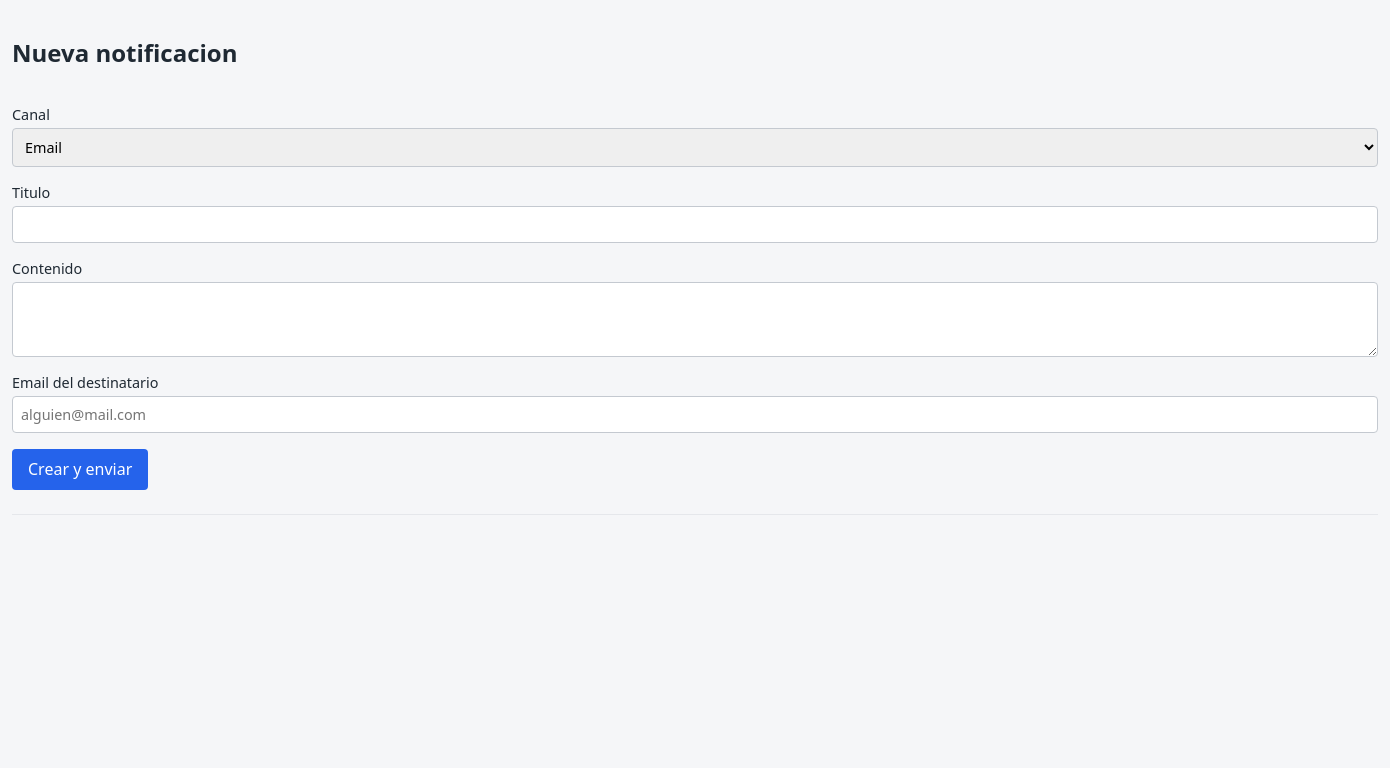
Scenario: NotificationForm › muestra el error que devuelve el backend
This screenshot has width=1390, height=768.
Type "Hola" into the field labelled "Titulo".
click(695, 224); type("Hola")  # box [12,206,1378,243]
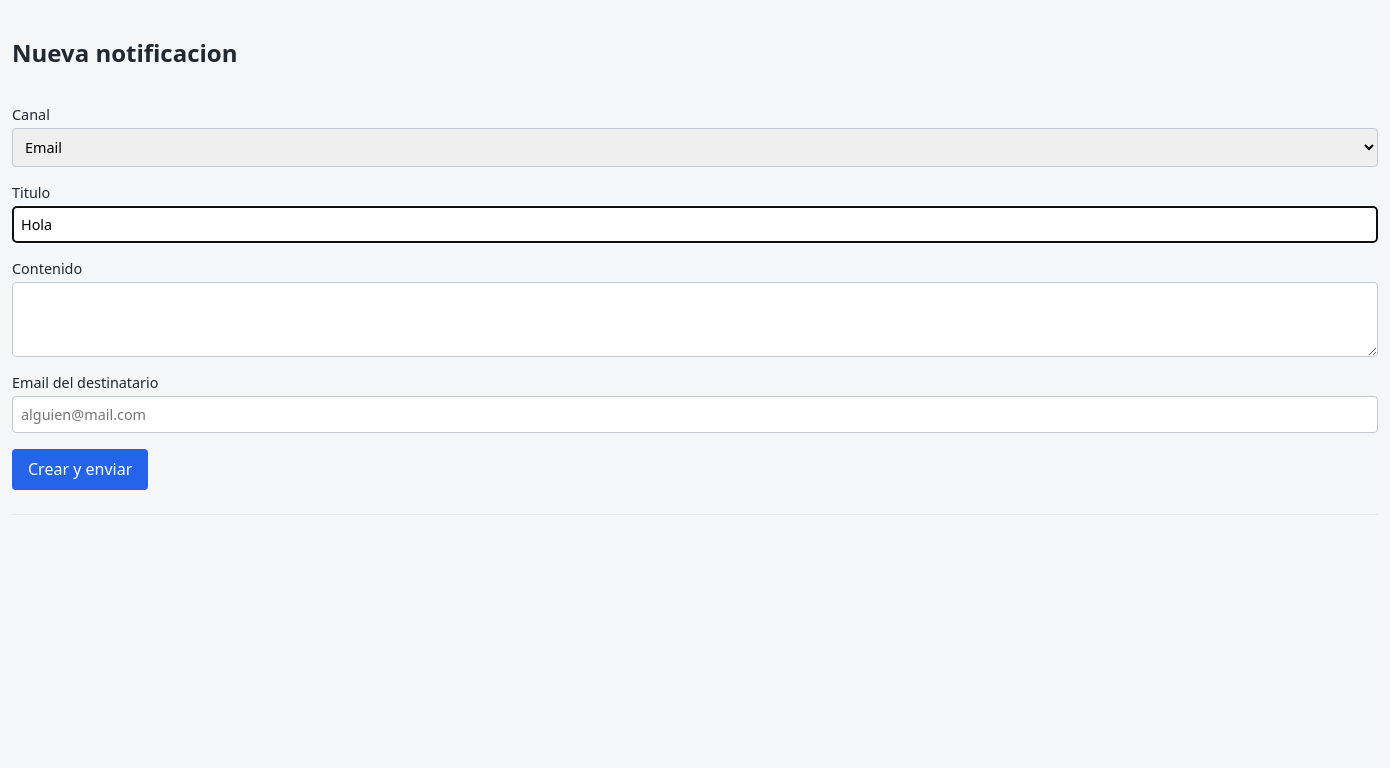
Type "Mensaje" into the text box labelled "Contenido".
click(695, 319); type("Mensaje")  # box [12,282,1378,357]
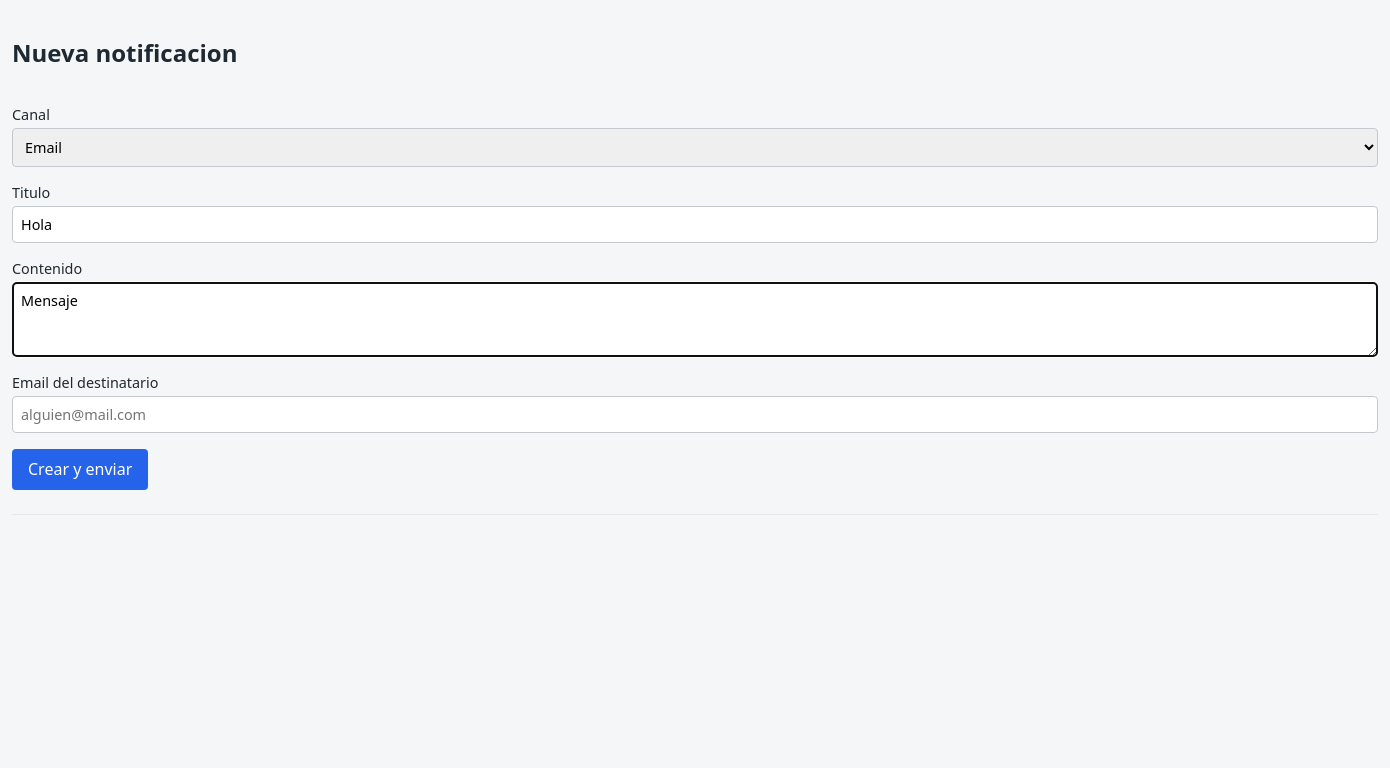
Type "x@mail.com" into the field labelled "Email del destinatario".
click(695, 414); type("x@mail.com")  # box [12,396,1378,433]
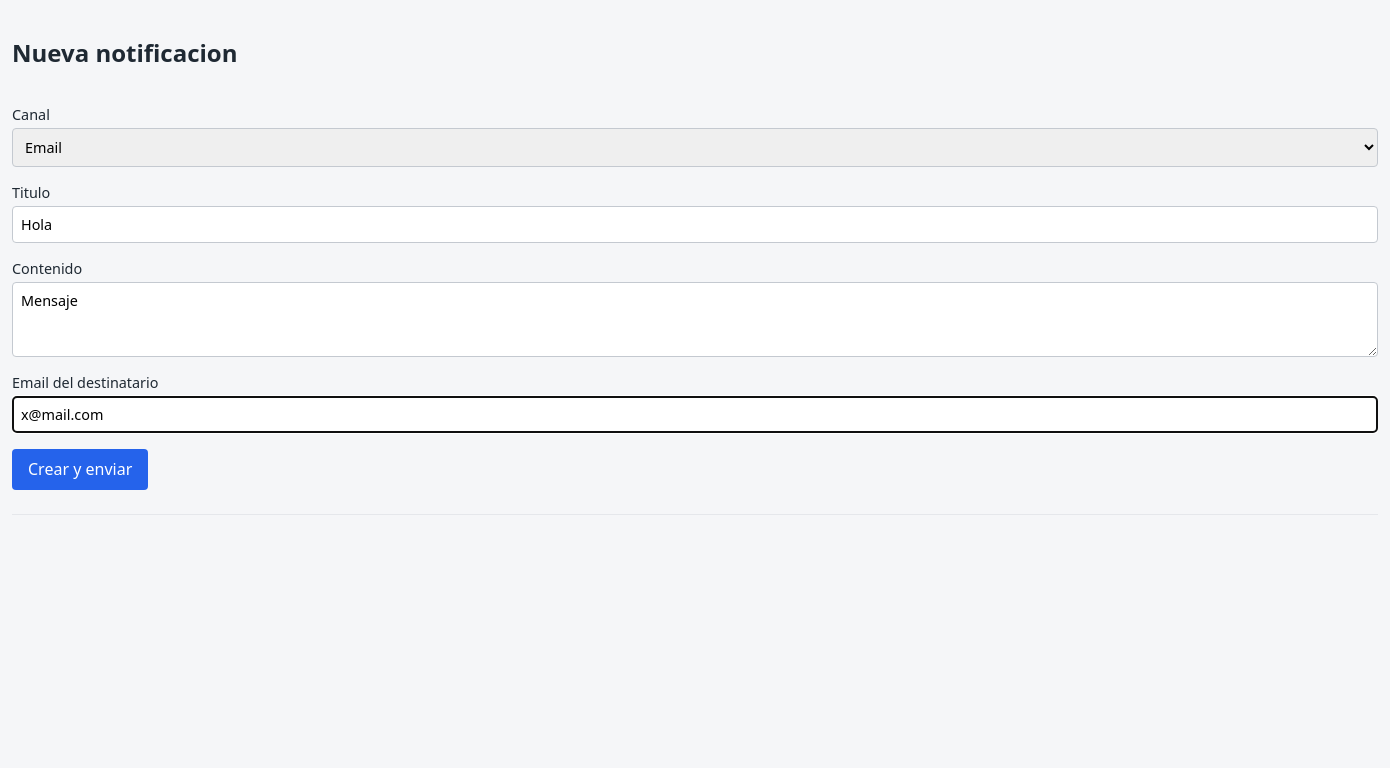
Click the button "Crear y enviar".
click(80, 469)  # box [12,449,148,490]
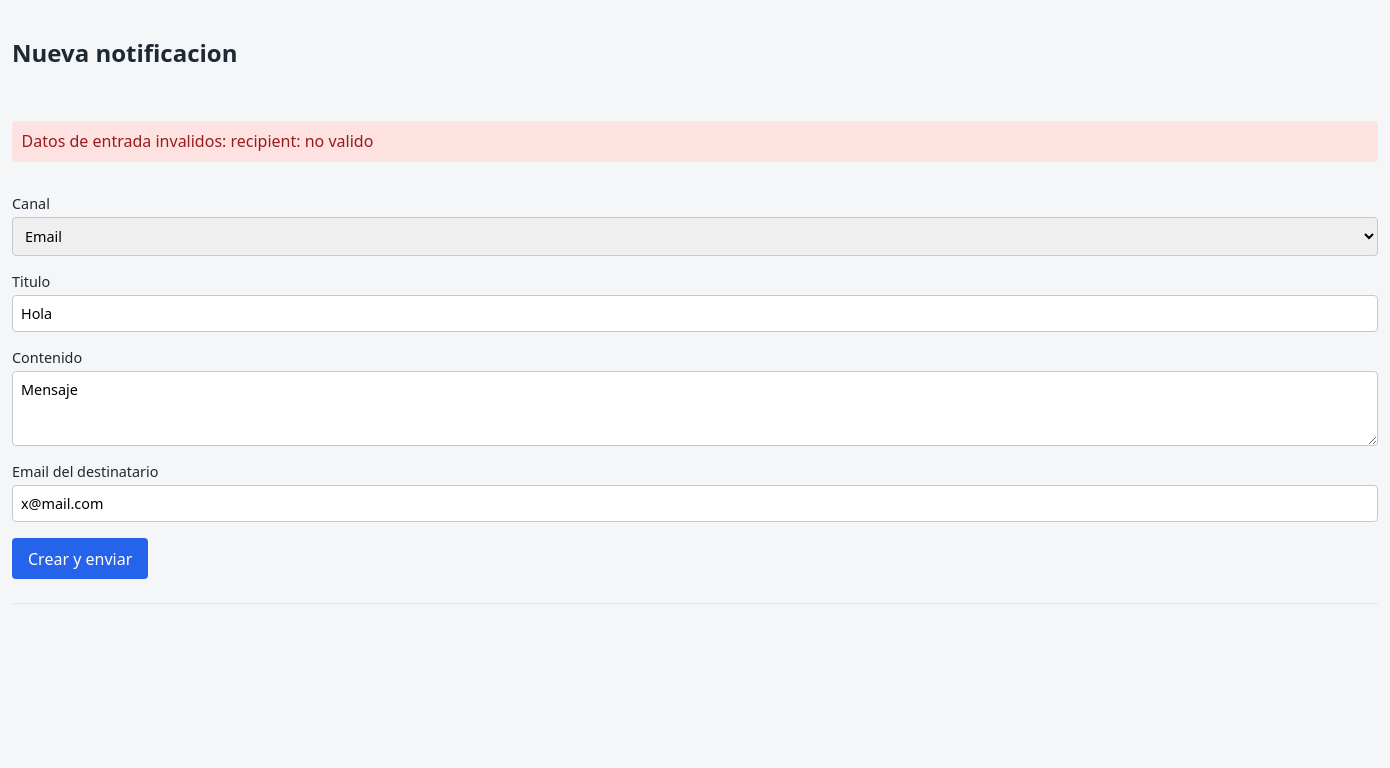
Expected: the message shows "Datos de entrada invalidos", [22,130,373,152]
